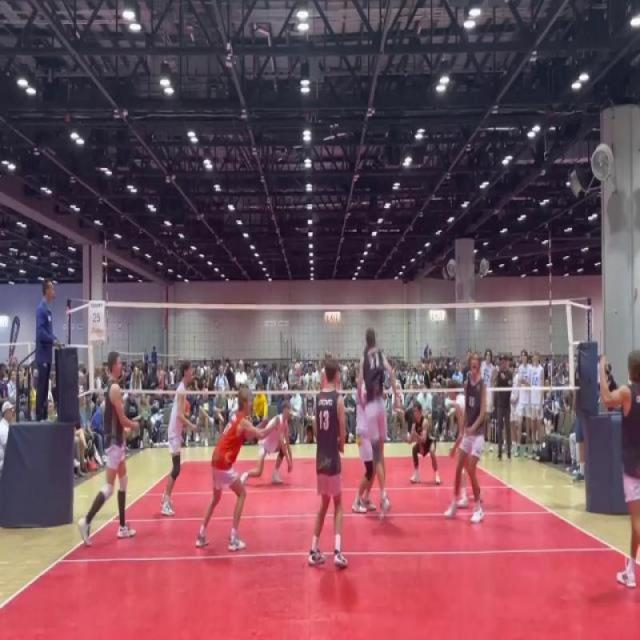volleyball: (292, 360, 302, 380)
